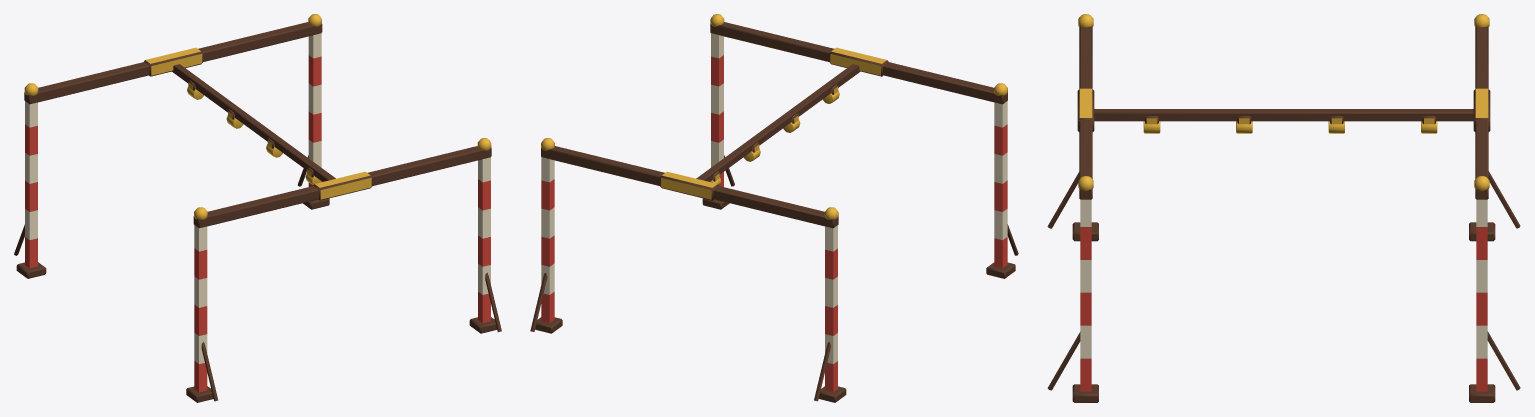
File: dash_hammer_frame.glb
The picture shows the model from 3 angles, left to right: view 1: azimuth 30°, elevation 25°; view 2: azimuth 150°, elevation 25°; view 3: azimuth 270°, elevation 25°; orthographic projection. The views are drawn at different scales.
Visible parts, largest first — view 1: dash_hammer_frame; view 2: dash_hammer_frame; view 3: dash_hammer_frame.
Part boxes in pixels (x1,y1,x2,y2): dash_hammer_frame: (14,14,501,402); dash_hammer_frame: (530,14,1018,402); dash_hammer_frame: (1047,14,1520,402).
Size of the model in its own units: 12.4 by 7.41 by 14.33.
